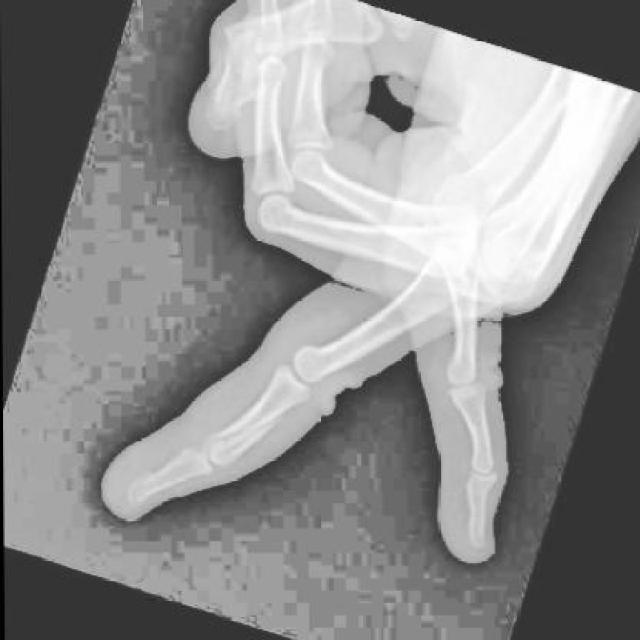Fracture: (200, 394, 288, 480)
